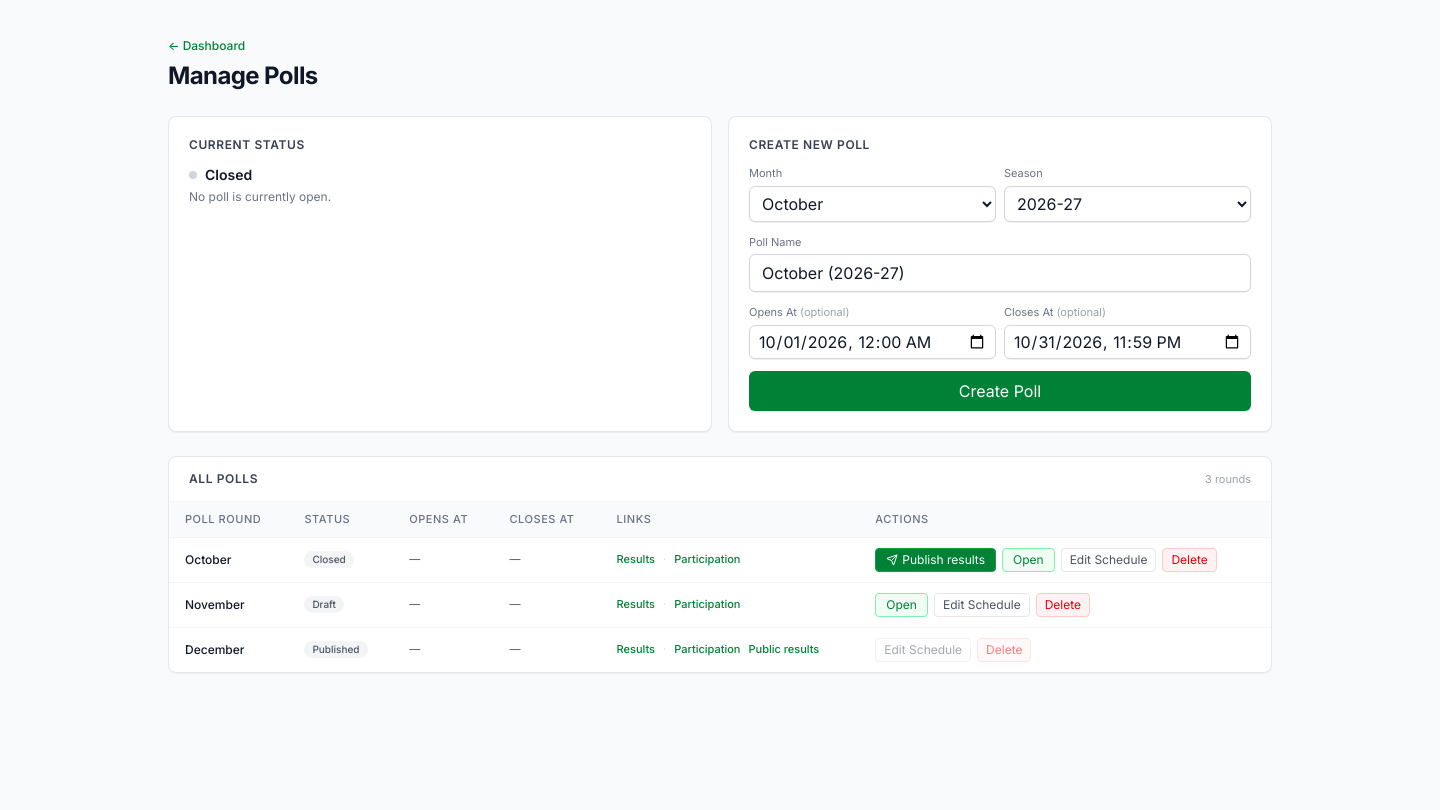
Test case: PollManagementPage › shows server errors without marking the poll as published
Click the button "Publish results" at (936, 560), box [875,548,996,572]
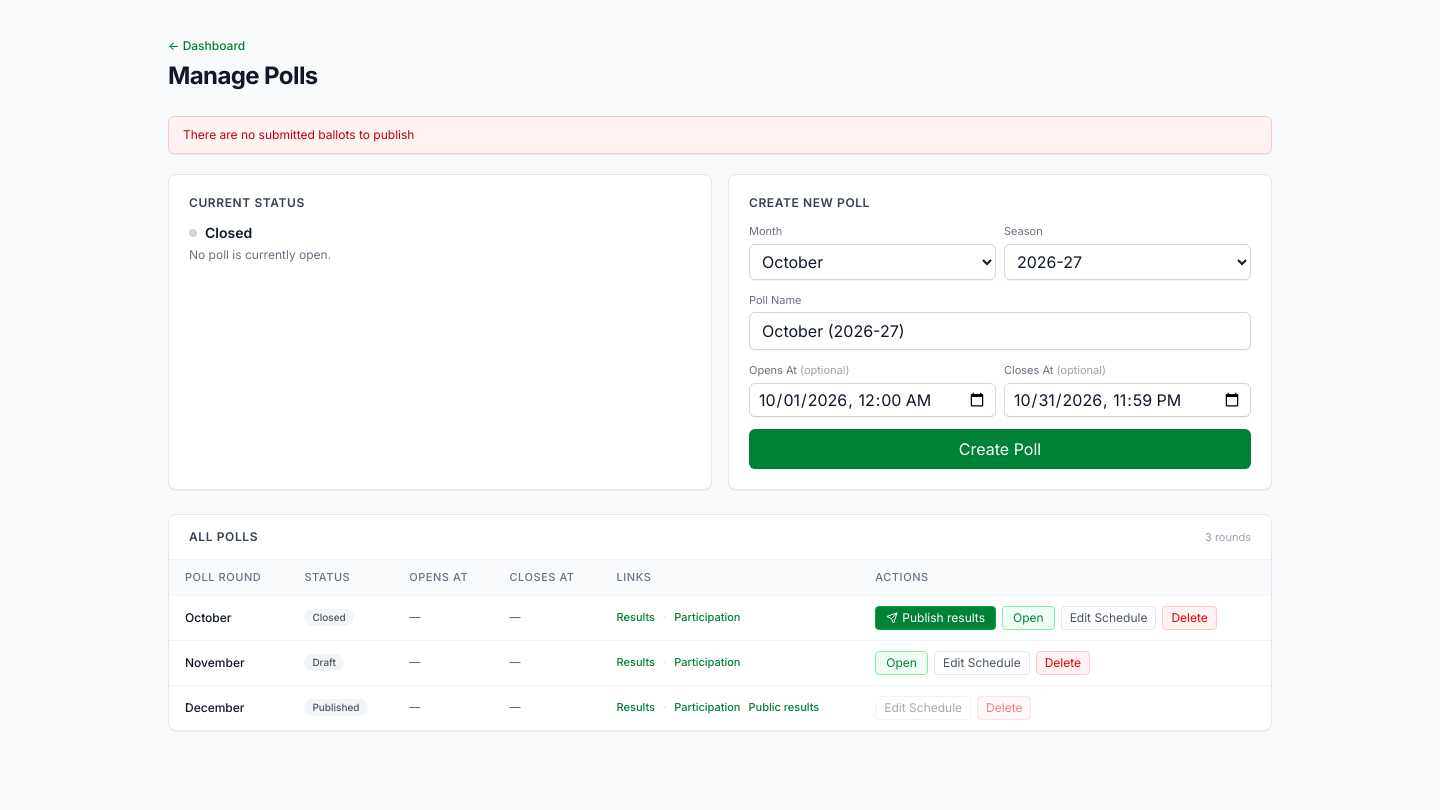
Expected: the text "Closed" next to "October" is shown, [312,611,346,623]
Now the text "There are no submitted ballots to publish" is shown, box [168,116,1272,154]
